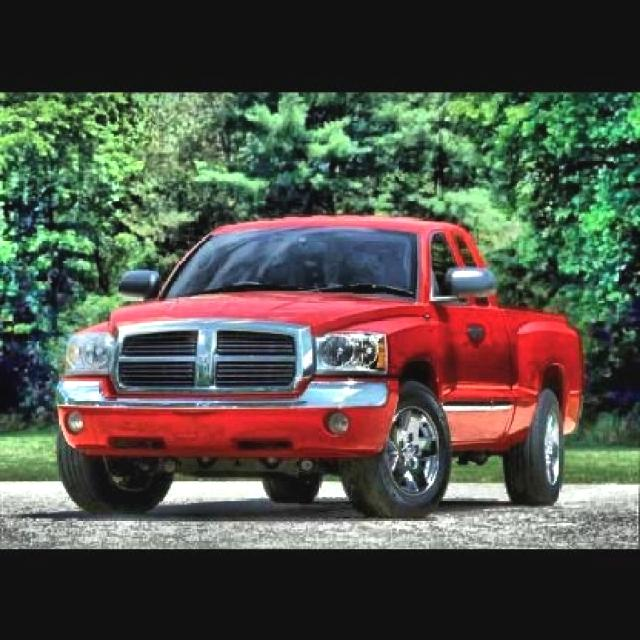red: (23, 203, 599, 495)
